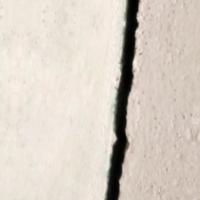crack: (85, 0, 162, 199)
